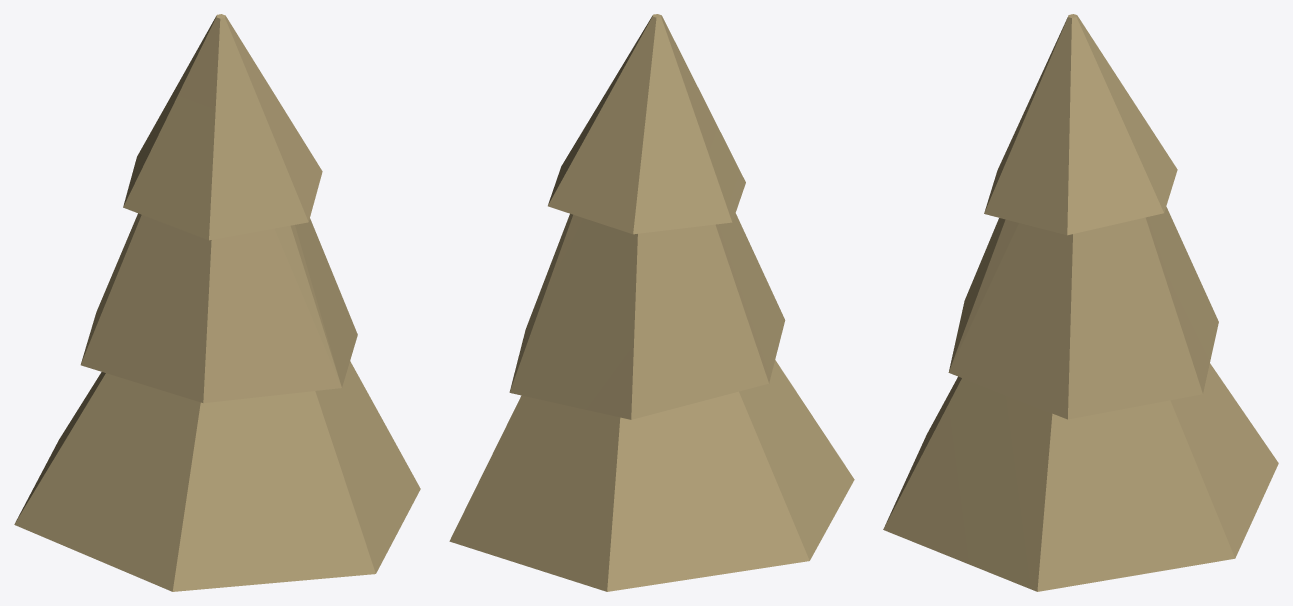
The model's file is pinktree.glb.
3 views of the same model, side by side, from view 1: azimuth 30°, elevation 25°; view 2: azimuth 150°, elevation 25°; view 3: azimuth 270°, elevation 25° (orthographic). The views are drawn at different scales.
Visible parts, largest first — view 1: tree; view 2: tree; view 3: tree.
Boxes of the visible parts, bbox=[...] form: tree: bbox=[14, 14, 420, 591]; tree: bbox=[449, 14, 854, 591]; tree: bbox=[883, 14, 1278, 591].
Bounding box in the file's own units: 10.29 × 14 × 10.02.
